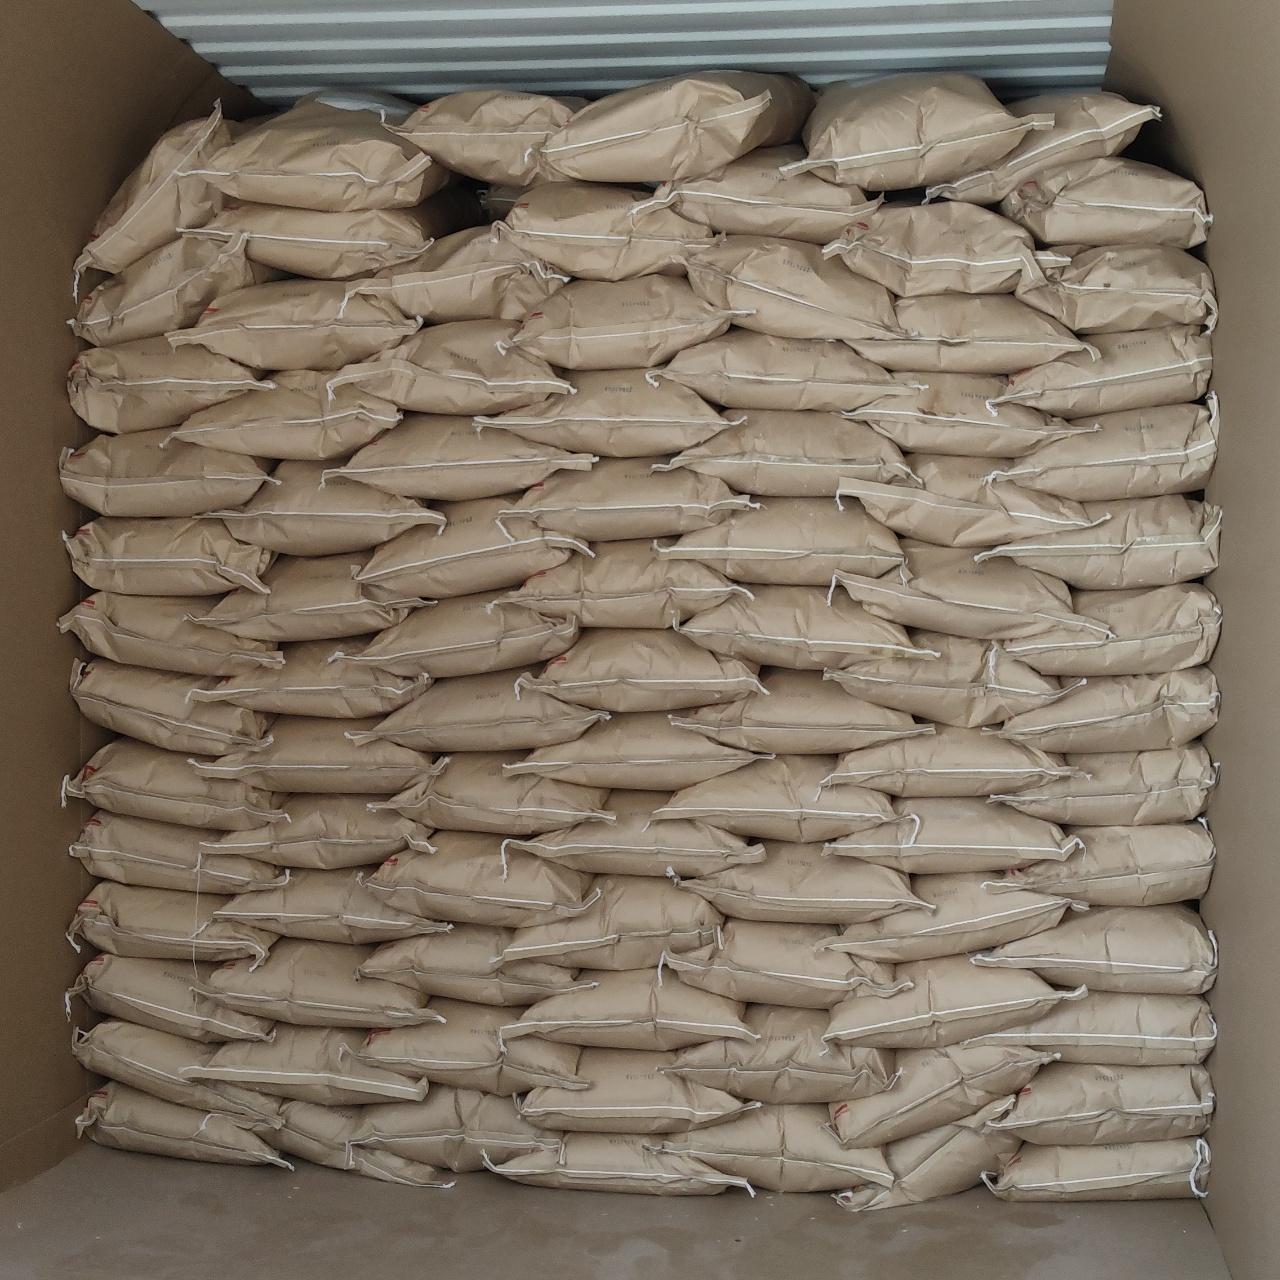sack: (72, 100, 245, 298), (780, 73, 1054, 191), (532, 71, 814, 184), (180, 97, 455, 211), (179, 185, 479, 278), (834, 540, 1112, 640), (922, 89, 1159, 205), (72, 1019, 285, 1143), (981, 392, 1217, 500), (630, 144, 881, 243), (823, 954, 1086, 1048), (352, 496, 592, 598), (813, 873, 1088, 962), (687, 235, 911, 342), (839, 454, 1099, 546), (69, 232, 276, 346), (652, 410, 923, 497), (327, 413, 595, 500), (327, 320, 575, 414), (647, 326, 920, 411), (341, 221, 569, 322), (668, 668, 935, 754), (659, 1007, 898, 1103), (977, 495, 1221, 589), (829, 1045, 1056, 1146), (652, 497, 912, 585), (166, 279, 419, 369), (500, 537, 747, 629), (476, 369, 737, 456), (490, 183, 724, 280), (202, 462, 443, 556), (661, 918, 912, 1008), (824, 632, 1061, 727), (360, 999, 594, 1095), (499, 274, 734, 369), (191, 938, 441, 1027), (972, 904, 1217, 994), (666, 841, 934, 923), (492, 875, 723, 970), (642, 1104, 895, 1190), (326, 592, 578, 678), (345, 669, 609, 751), (679, 586, 939, 669), (830, 1097, 1019, 1211), (365, 831, 591, 926), (196, 551, 436, 640), (844, 373, 1098, 457), (163, 371, 402, 460), (651, 755, 895, 842), (62, 737, 288, 830), (986, 325, 1211, 418), (824, 202, 1044, 297), (519, 792, 764, 877), (504, 966, 754, 1049), (367, 751, 613, 835), (847, 294, 1100, 374), (522, 1048, 760, 1133), (502, 459, 751, 540), (1004, 583, 1220, 676), (190, 635, 432, 718), (519, 629, 760, 712), (504, 713, 763, 790), (824, 797, 1083, 874), (70, 658, 273, 756), (68, 336, 274, 432), (59, 426, 278, 516), (986, 820, 1215, 906), (358, 924, 598, 1006), (182, 1024, 422, 1105), (959, 991, 1217, 1065), (1001, 157, 1212, 247), (76, 1081, 292, 1168), (1001, 667, 1219, 753), (986, 742, 1217, 823), (986, 1063, 1214, 1145), (823, 726, 1084, 797), (189, 717, 432, 793), (215, 866, 453, 943), (66, 954, 274, 1042), (60, 592, 280, 675), (69, 810, 287, 893), (397, 91, 585, 187), (350, 1085, 558, 1170), (1018, 246, 1216, 333), (202, 794, 433, 867), (66, 881, 278, 960), (484, 1132, 747, 1195), (62, 517, 274, 595), (277, 1102, 453, 1187), (985, 1137, 1210, 1200)
